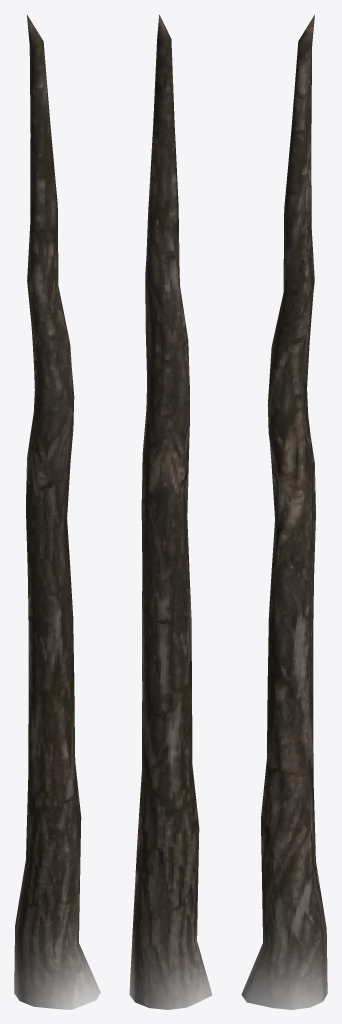
Rendered from big_tree_1.fbx.
3 renders of one model, left to right at view 1: azimuth 90°, elevation 25°; view 2: azimuth 150°, elevation 25°; view 3: azimuth 270°, elevation 25°, orthographic.
Visible parts, largest first — view 1: big_tree_1; view 2: big_tree_1; view 3: big_tree_1.
Boxes of the visible parts, x1,y1,x2,y2 form: big_tree_1: (14, 15, 100, 1009); big_tree_1: (129, 14, 212, 1009); big_tree_1: (241, 14, 327, 1009).
Size of the model in its own units: 141 by 157 by 1966.
